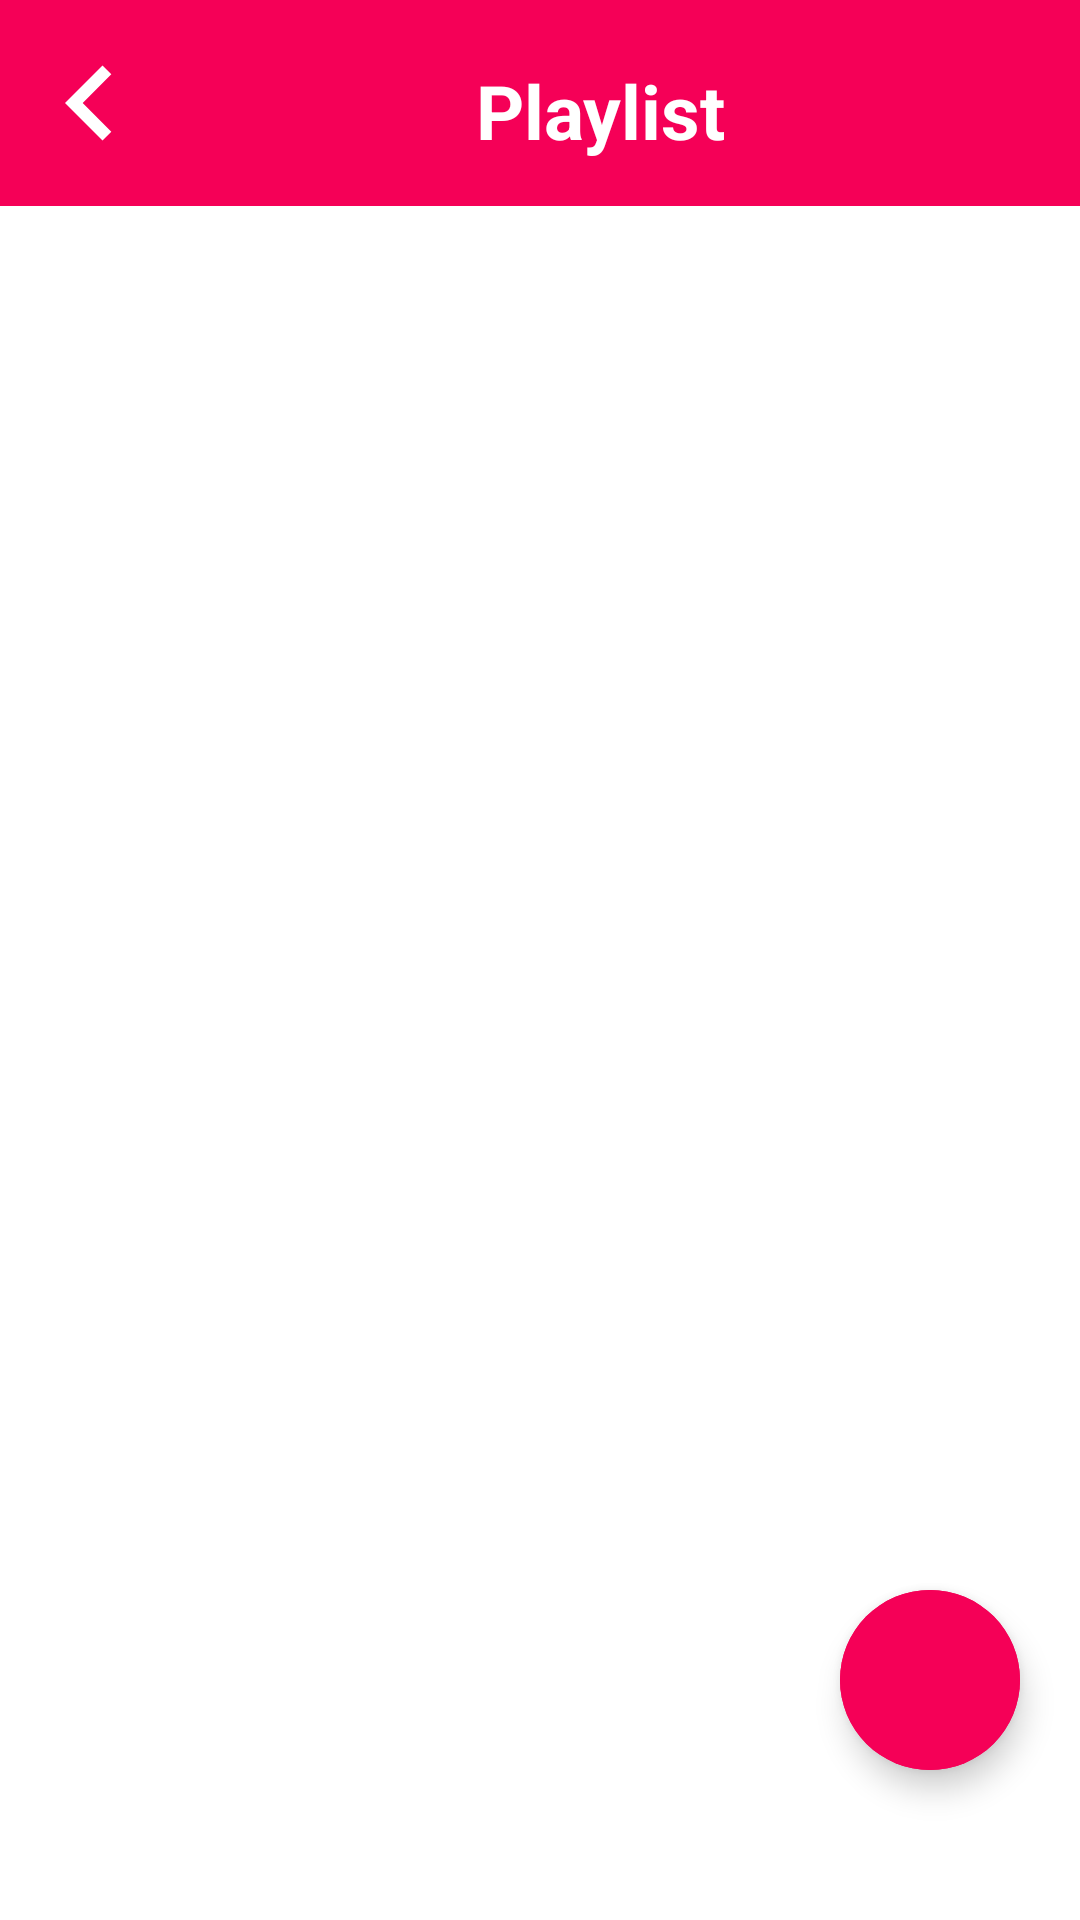

Point at icon controls on the screen. Image size 1080x1920, points as point (x, y).
back: point (88, 103)
